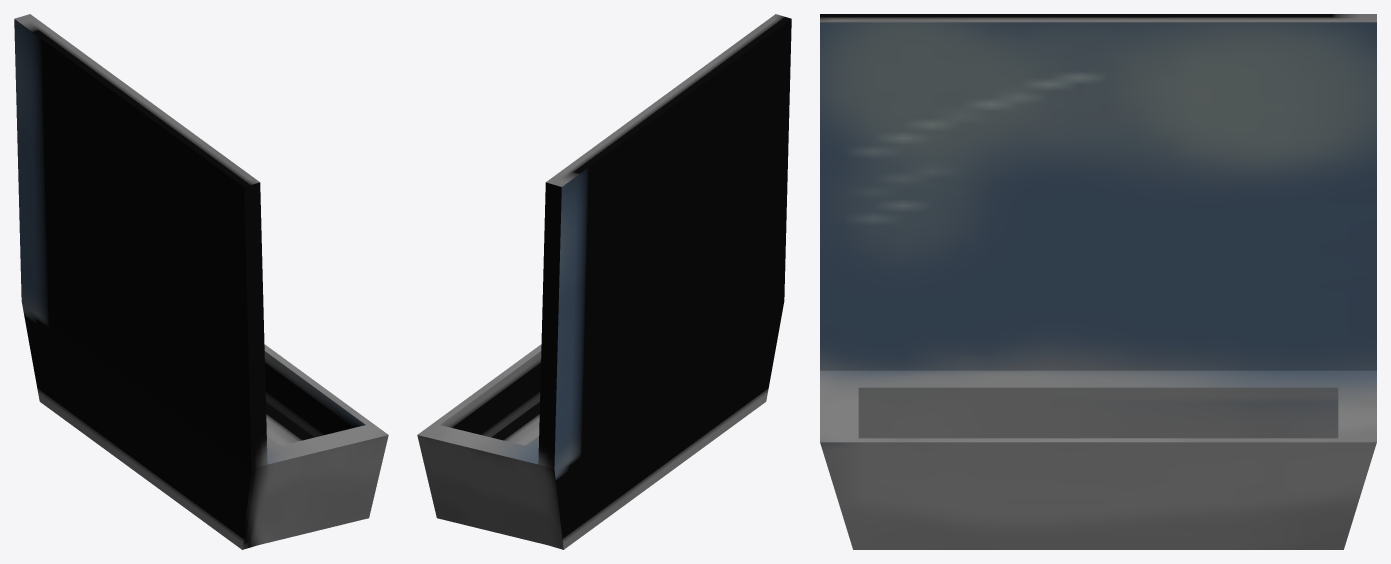
The model's file is sink.fbx.
3 renders of one model, left to right at view 1: azimuth 30°, elevation 25°; view 2: azimuth 150°, elevation 25°; view 3: azimuth 270°, elevation 25°, orthographic. The views are drawn at different scales.
Visible parts, largest first — view 1: sink; view 2: sink; view 3: sink.
Part boxes in pixels (x1=…): sink: x1=14, y1=14, x2=388, y2=549; sink: x1=417, y1=14, x2=791, y2=549; sink: x1=820, y1=14, x2=1376, y2=549.
Bounding box in the file's own units: 82.4 × 205 × 227.
1 material, 1 textured.
